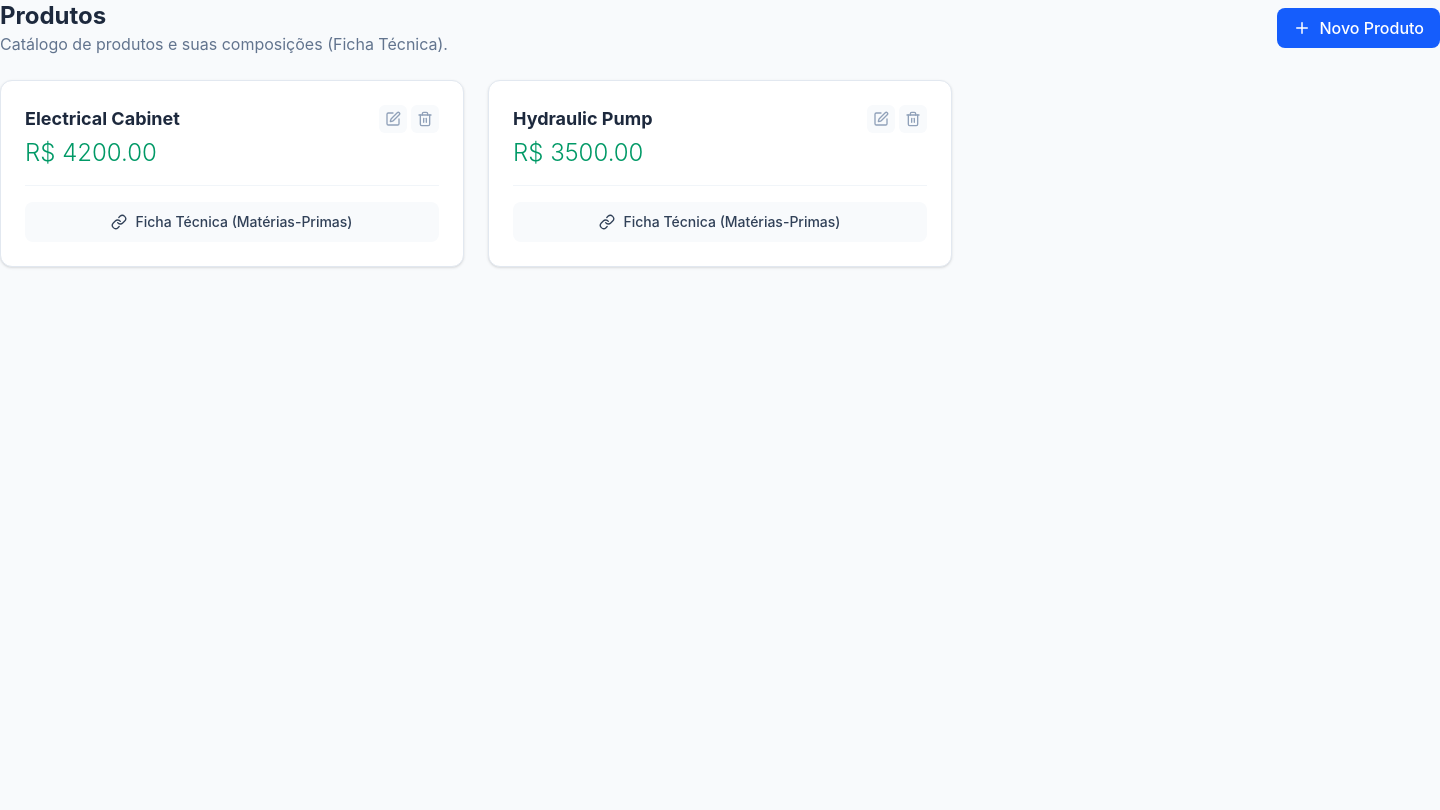
Test: Products › opens create modal when Novo Produto is clicked
Expected: the heading "Electrical Cabinet" is shown, top-left (25, 105), bottom-right (180, 133)
Click the button "Novo Produto" at (1359,28), box top-left (1277, 8), bottom-right (1439, 48)
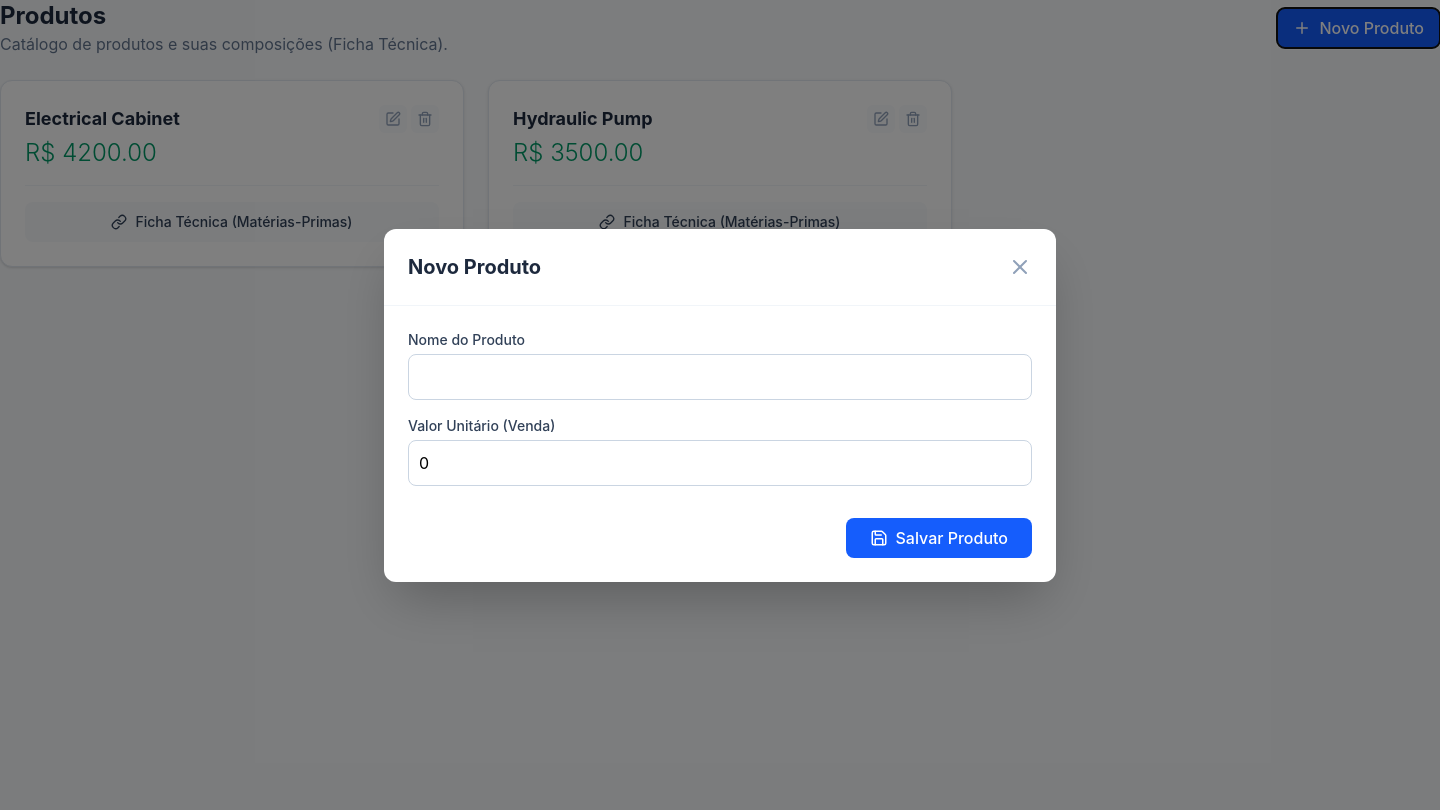
Expected: the heading "Novo Produto" is shown, top-left (408, 252), bottom-right (541, 280)
